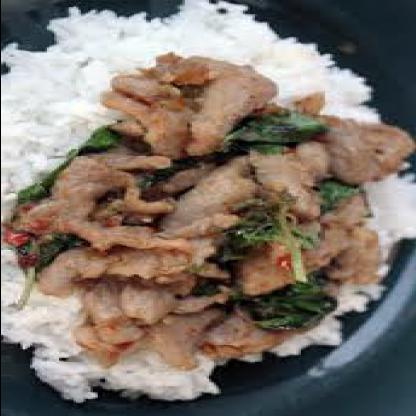Basil Rice: (3, 26, 396, 394)
